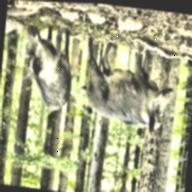boar: (78, 38, 176, 134), (19, 22, 76, 115)
